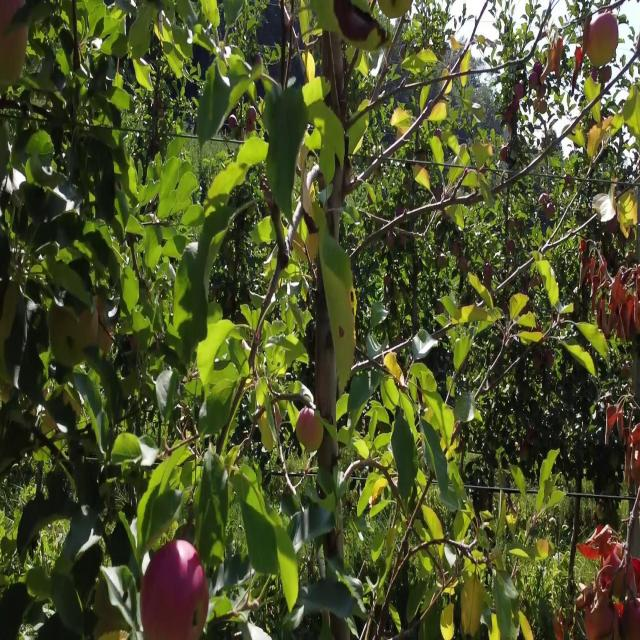apple: (140, 540, 211, 639), (0, 7, 30, 85), (80, 298, 113, 356), (296, 412, 325, 455), (596, 14, 620, 64), (340, 7, 371, 43), (464, 590, 484, 638), (584, 21, 602, 68), (336, 7, 359, 41), (260, 405, 283, 439), (624, 597, 640, 639), (604, 547, 624, 580), (336, 0, 354, 36), (596, 597, 613, 635), (592, 255, 608, 292), (580, 255, 596, 290), (548, 35, 564, 68), (572, 49, 584, 89), (612, 277, 627, 308), (620, 298, 635, 329), (540, 191, 556, 220), (596, 526, 612, 555), (612, 568, 627, 597), (608, 405, 624, 432), (444, 604, 456, 639), (528, 63, 543, 91), (629, 561, 640, 596), (588, 611, 601, 639), (532, 63, 545, 91), (584, 540, 600, 562), (552, 35, 564, 59), (492, 611, 502, 638), (536, 92, 548, 114), (600, 63, 612, 85), (612, 447, 622, 473), (608, 213, 619, 235), (576, 49, 584, 76), (504, 106, 513, 126), (520, 440, 529, 460), (616, 604, 624, 624), (548, 348, 555, 370), (633, 426, 640, 448), (516, 85, 525, 100), (580, 241, 589, 256), (512, 99, 520, 114), (536, 355, 543, 372), (544, 63, 551, 80), (636, 270, 640, 297), (508, 241, 516, 254)
